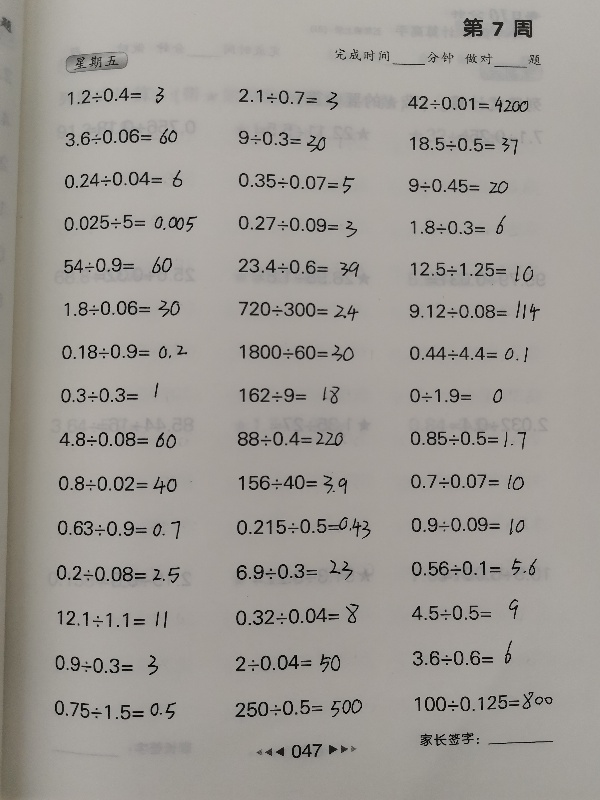equation: (232, 511, 374, 540), (231, 379, 352, 412), (405, 295, 543, 323), (410, 689, 556, 715), (408, 596, 528, 627), (231, 600, 362, 628), (63, 80, 175, 112), (232, 695, 367, 721), (60, 210, 200, 235), (233, 556, 357, 584), (406, 257, 537, 283), (54, 516, 184, 542), (51, 653, 176, 680), (50, 697, 179, 723), (408, 554, 541, 579), (408, 640, 516, 670), (58, 253, 181, 279), (234, 212, 361, 237), (406, 381, 519, 409), (54, 472, 180, 497), (60, 167, 186, 192), (52, 562, 183, 586), (234, 170, 358, 195), (407, 428, 530, 453), (57, 340, 190, 363), (234, 298, 361, 322), (234, 470, 350, 496), (55, 427, 180, 451), (62, 124, 181, 149), (61, 297, 184, 321), (404, 92, 532, 115), (235, 340, 357, 364), (235, 256, 362, 279), (407, 513, 528, 537), (406, 469, 527, 493), (405, 131, 521, 156), (405, 342, 531, 365), (53, 607, 170, 631), (233, 651, 345, 676), (407, 212, 510, 239), (235, 86, 341, 112), (234, 428, 347, 450), (57, 384, 169, 406), (234, 127, 330, 152), (404, 175, 512, 197)
